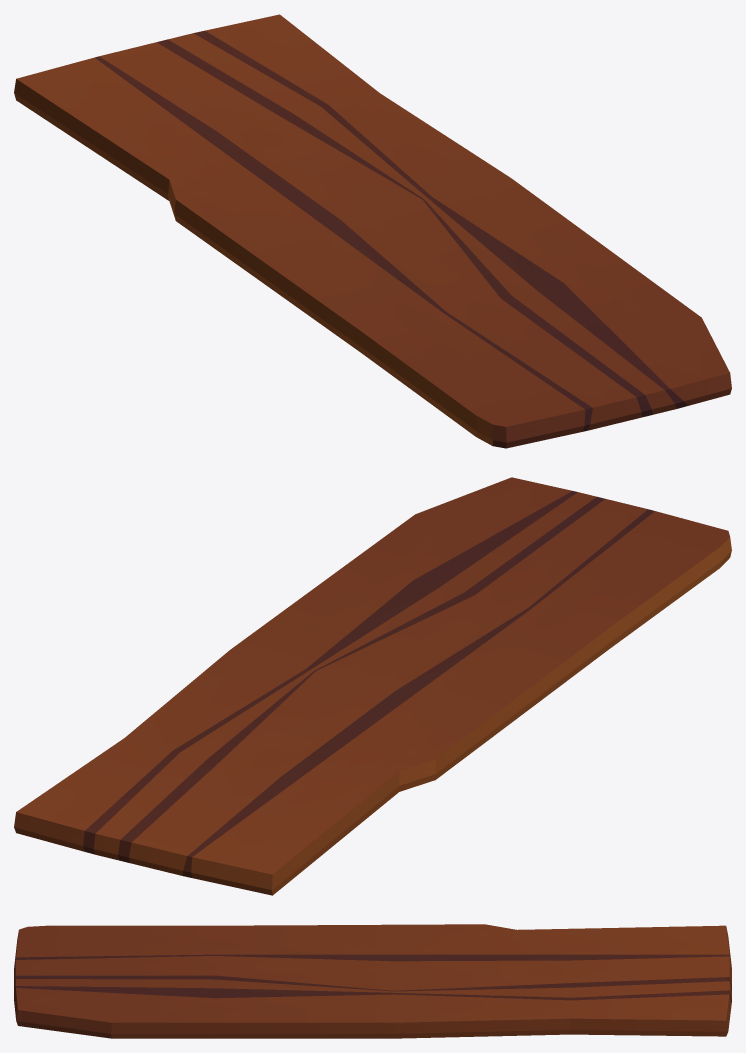
The model's file is Prop_WoodPlank01.fbx.
3 renders of one model, top to bottom at view 1: azimuth 30°, elevation 25°; view 2: azimuth 150°, elevation 25°; view 3: azimuth 270°, elevation 25°, orthographic. The views are drawn at different scales.
Parts seen in each view (by area): view 1: Cube.461; view 2: Cube.461; view 3: Cube.461.
Boxes of the visible parts, x1,y1,x2,y2 form: Cube.461: (14,14,731,448); Cube.461: (14,477,731,895); Cube.461: (14,924,731,1038).
Bounding box in the file's own units: 66.29 × 4.98 × 203.
